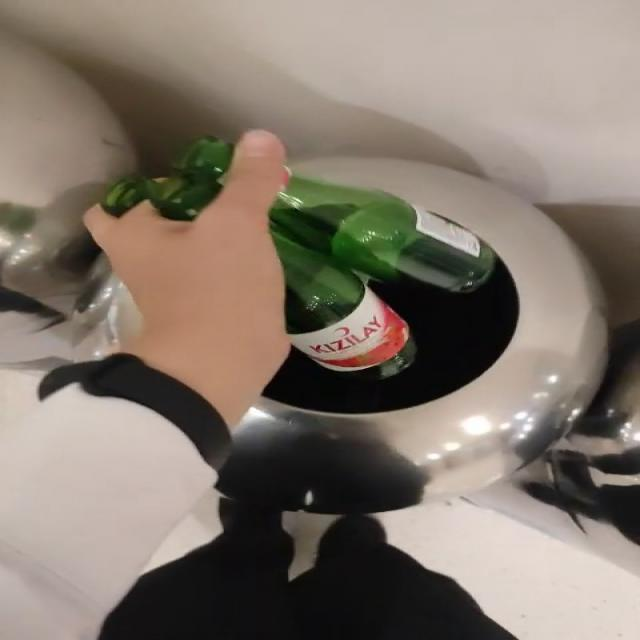Glass: (269, 176, 497, 379), (101, 137, 233, 220)
